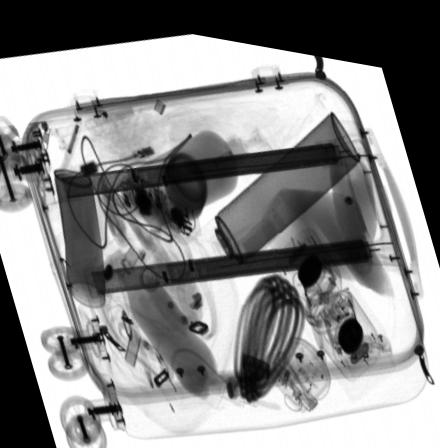Sprayer: (194, 98, 359, 276)
